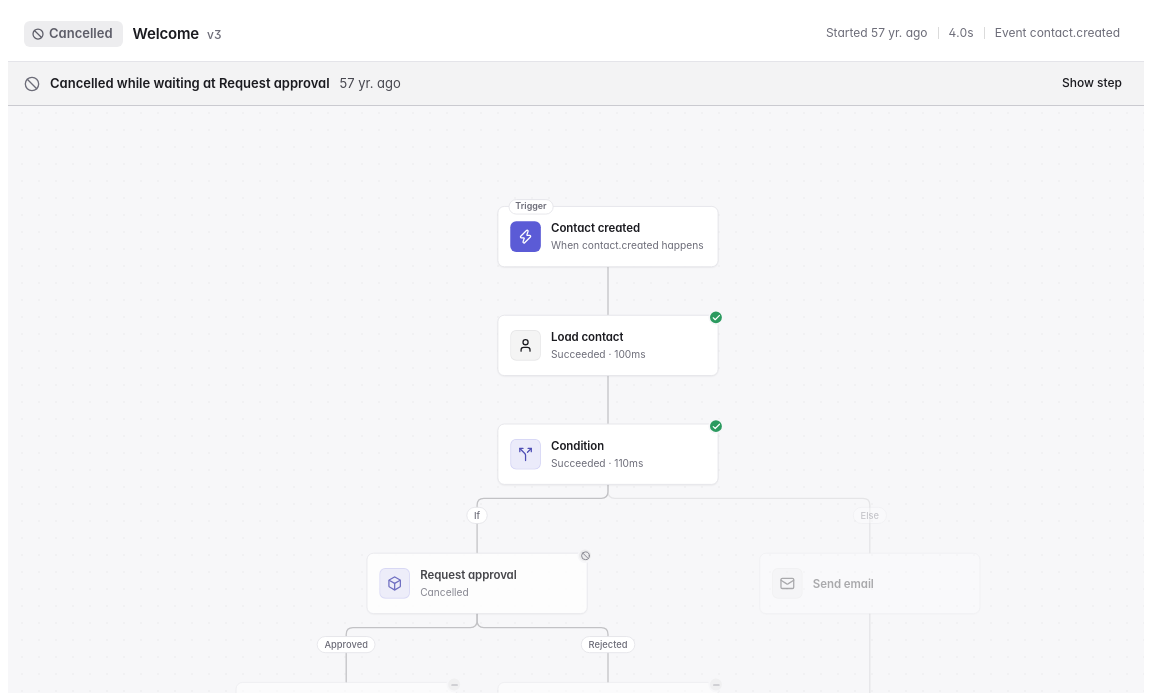
Test: RunViewer: resuming › a host-handled wait still reads as a decision in the timeline once the run is cancelled
Click the button "Show step": (1092, 84) [1052, 70, 1132, 96]
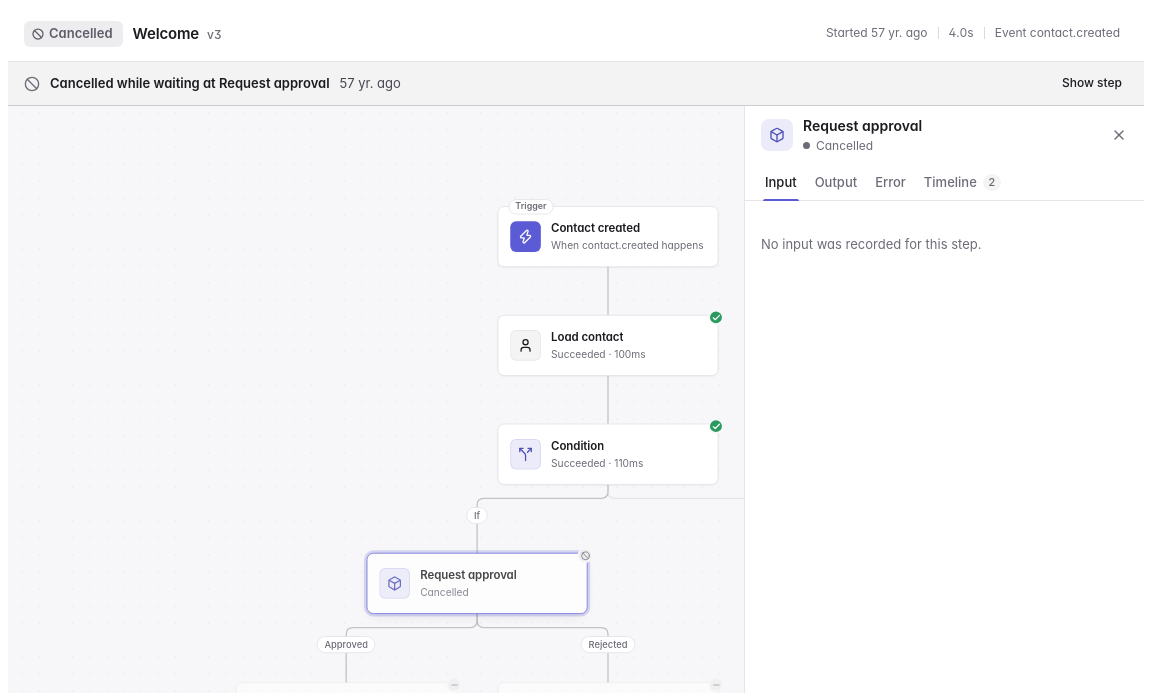
Click the tab "Timeline 2": (962, 182) [916, 164, 1009, 200]
(page scrolled)
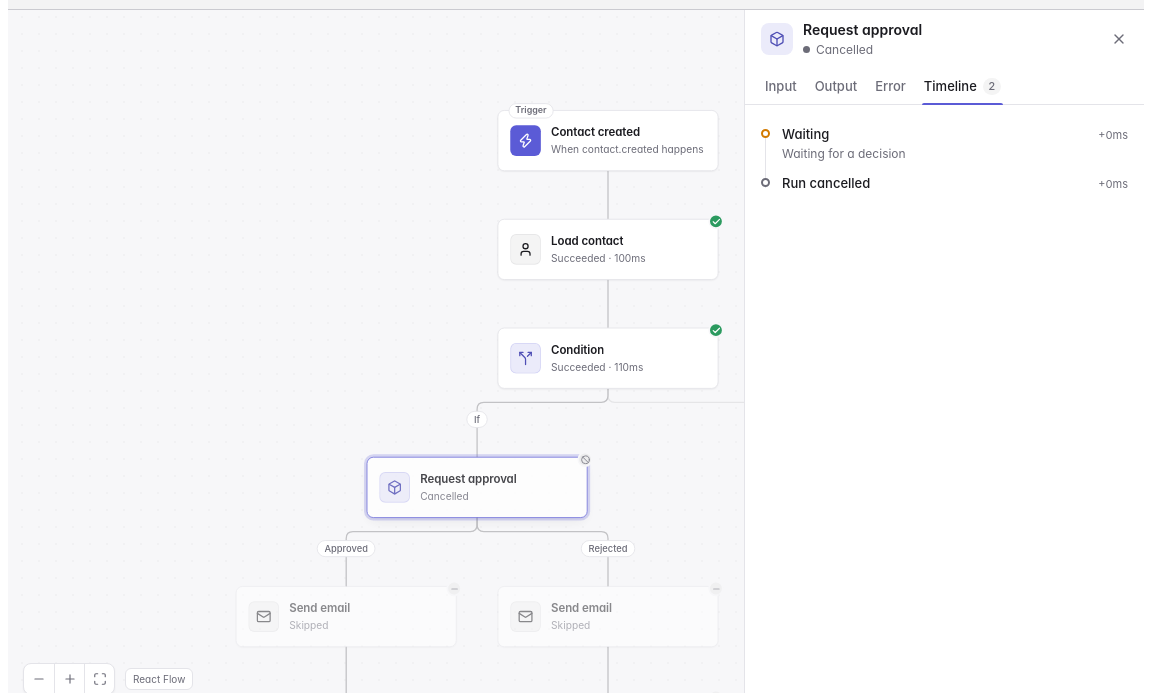
Expected: the panel named "Timeline" shows "Waiting for a decision", [782, 146, 906, 161]
